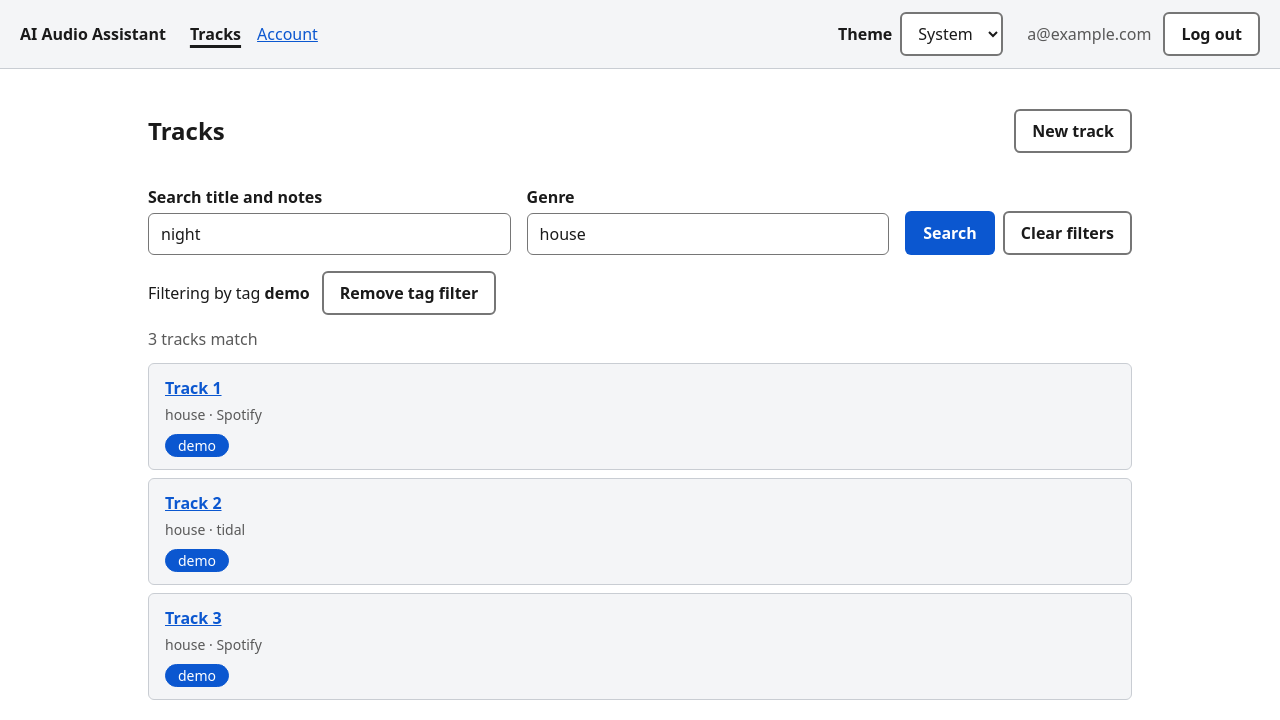
it: the URL is the state › clears every filter
This screenshot has width=1280, height=720.
Expected: the link "Track 1" is shown, [165,377,222,399]
Click the button "Clear filters" at point(1067, 233), box [1003,211,1132,255]
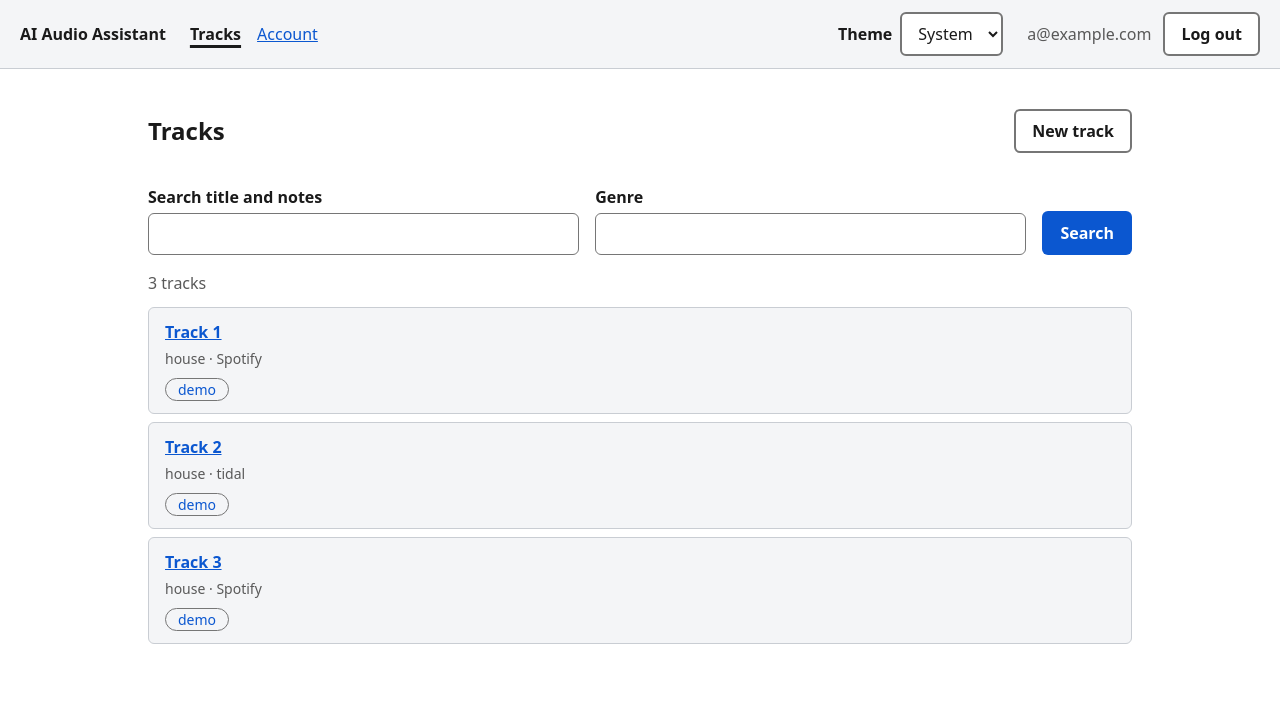
Now the search field labelled "Search title and notes" is empty, box [148,213,579,255]
Now the field labelled "Genre" is empty, box [595,213,1026,255]
Now the button "Clear filters" is gone
